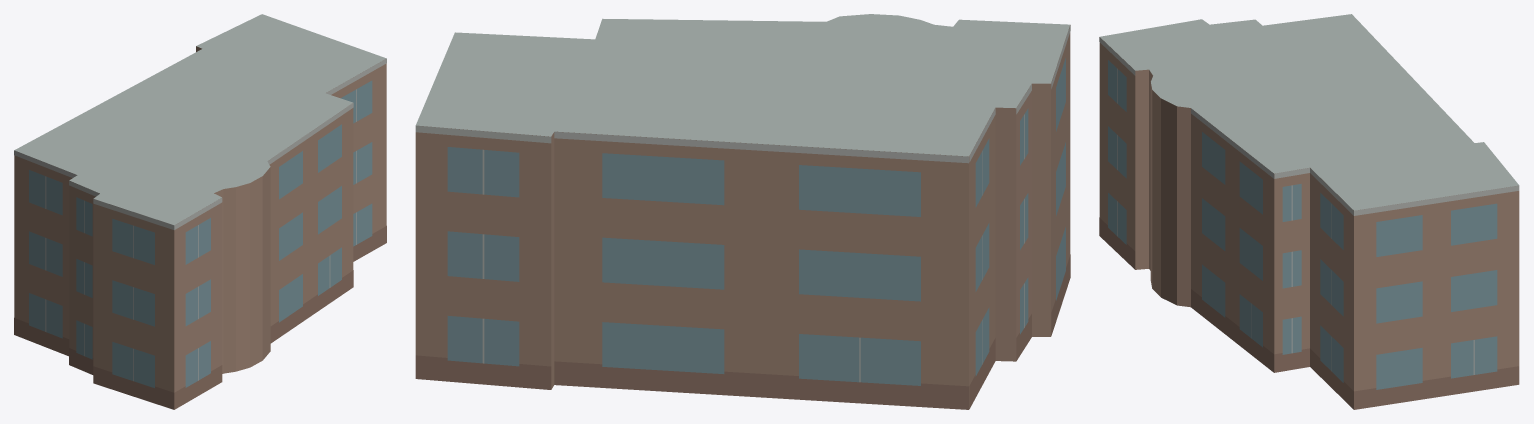
The model's file is survey-upis-32575205.glb.
3 renders of one model, left to right at view 1: azimuth 30°, elevation 25°; view 2: azimuth 150°, elevation 25°; view 3: azimuth 270°, elevation 25°, orthographic. The views are drawn at different scales.
Parts seen in each view (by area): view 1: survey-upis-32575205.tmp; view 2: survey-upis-32575205.tmp; view 3: survey-upis-32575205.tmp.
Part boxes in pixels (<box>): survey-upis-32575205.tmp: <box>14,14,386,409</box>; survey-upis-32575205.tmp: <box>415,14,1070,409</box>; survey-upis-32575205.tmp: <box>1099,14,1519,409</box>.
Size of the model in its own units: 19.39 by 9.15 by 17.49.
